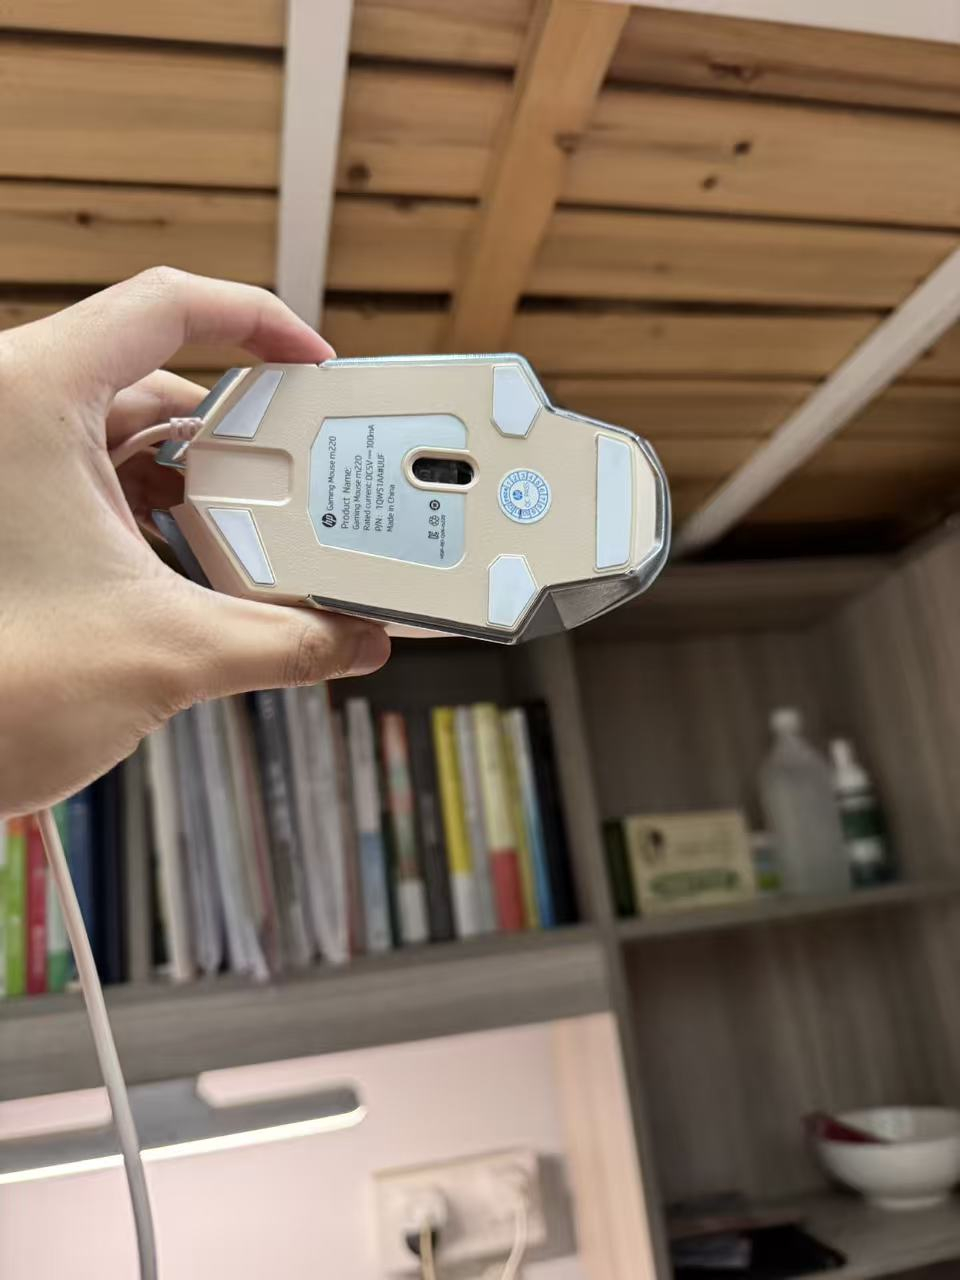mouse: (184, 333, 731, 668)
